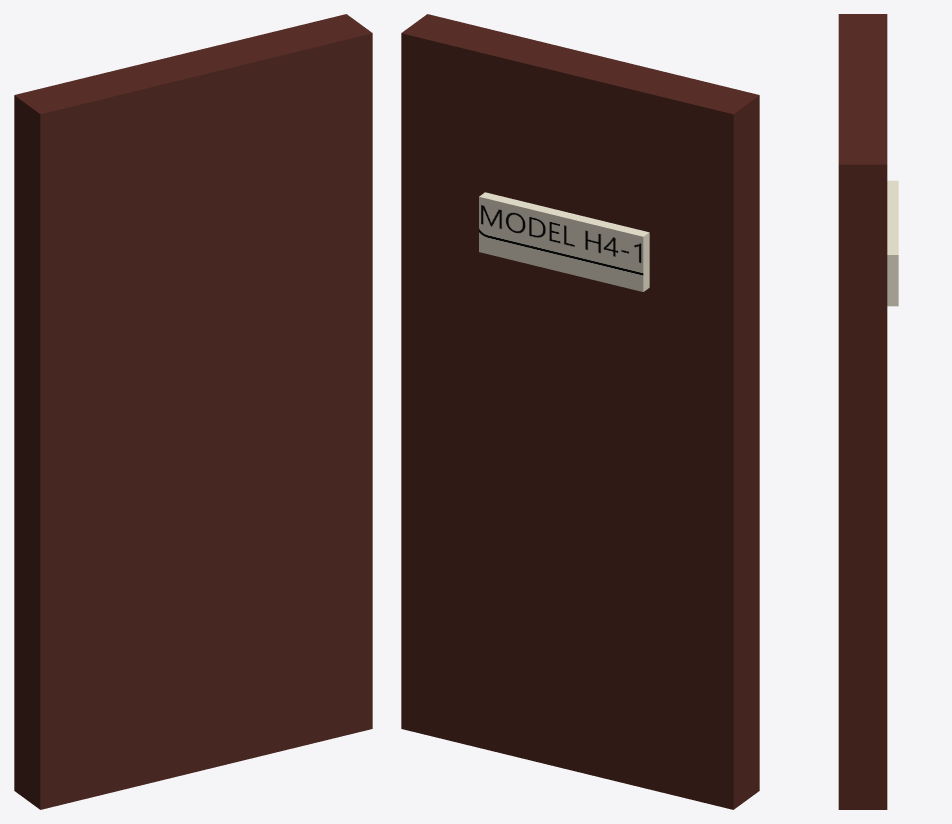
Rendered from SM_Door_Maintenance.fbx.
3 views of the same model, side by side, from view 1: azimuth 30°, elevation 25°; view 2: azimuth 150°, elevation 25°; view 3: azimuth 270°, elevation 25° (orthographic). The views are drawn at different scales.
Parts seen in each view (by area): view 1: SM_DoorMaintenance; view 2: SM_DoorMaintenance; view 3: SM_DoorMaintenance.
Boxes of the visible parts, <box> form: SM_DoorMaintenance: <box>14,14,372,809</box>; SM_DoorMaintenance: <box>401,14,759,809</box>; SM_DoorMaintenance: <box>838,14,898,809</box>.
Bounding box in the file's own units: 1 × 2 × 0.4198.
